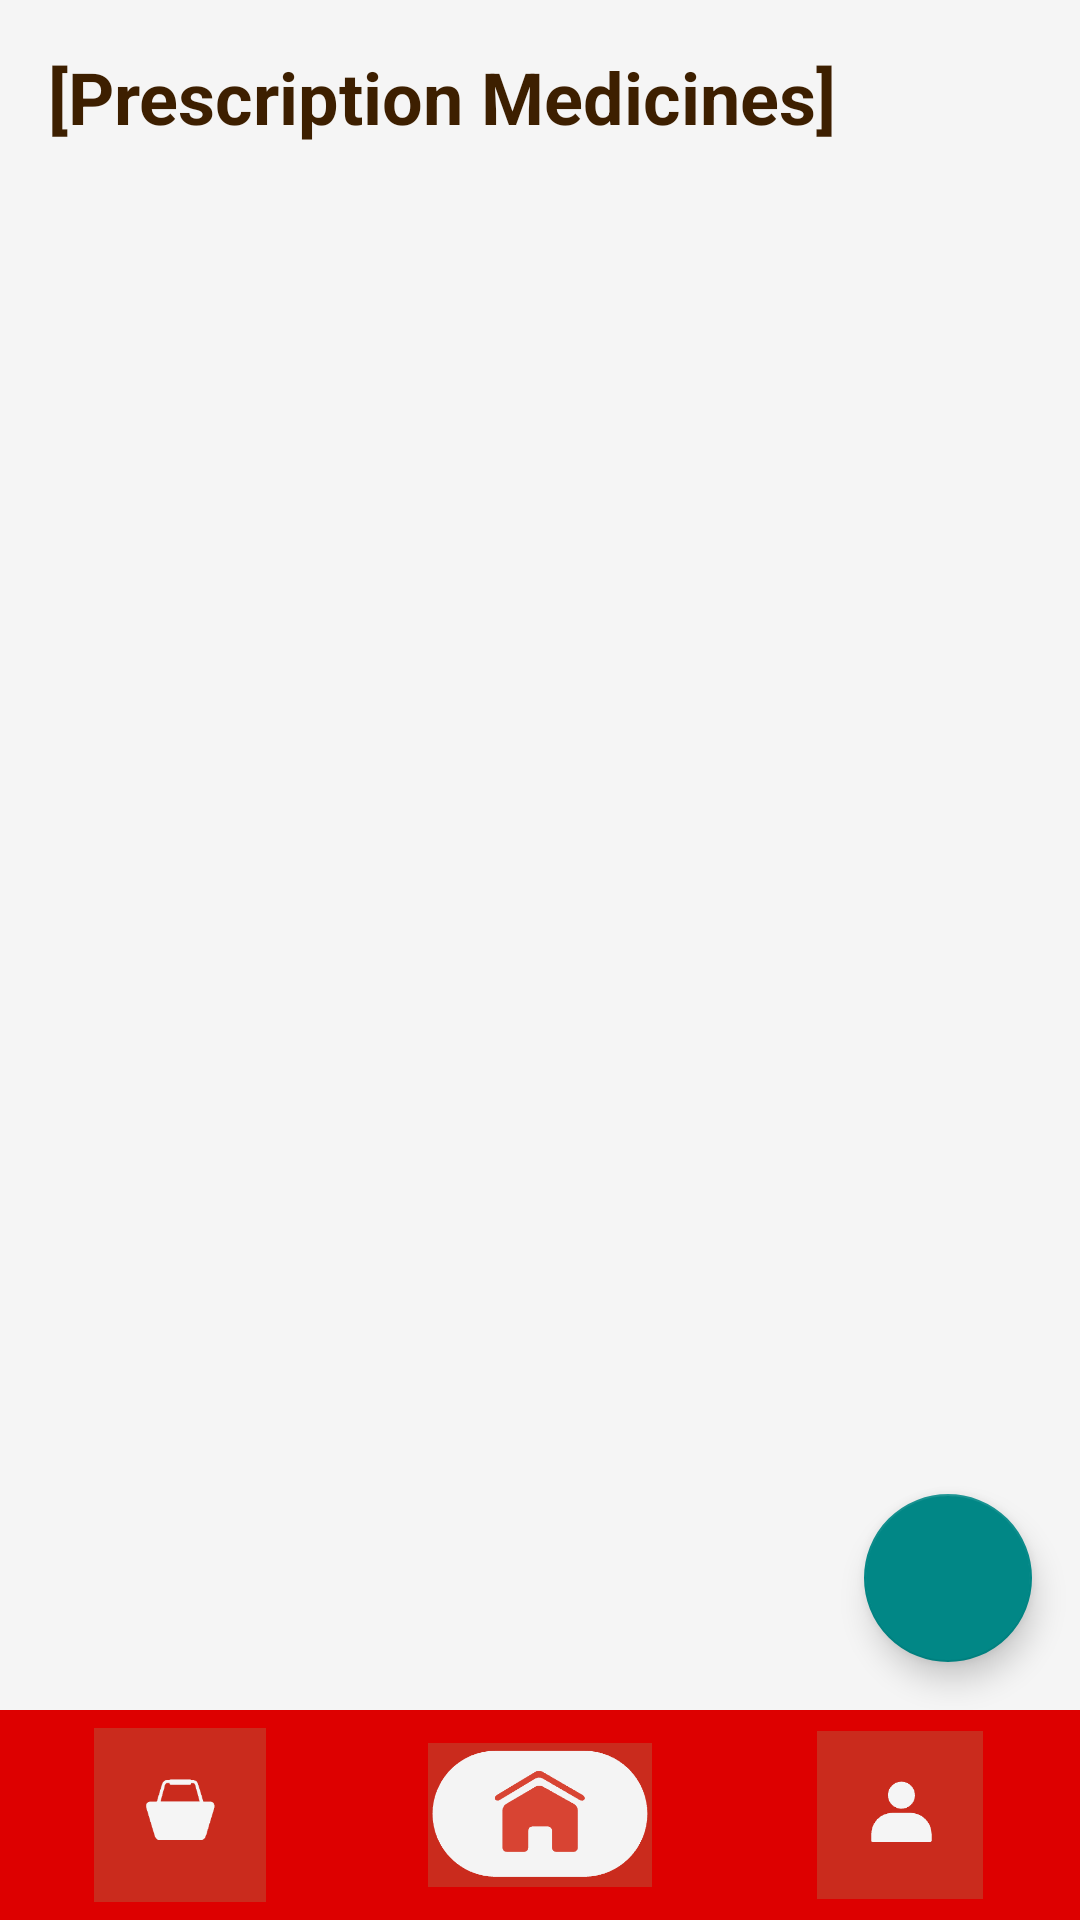

Named icons in this screenshot (1080w x 1920h) and their centers, (x=x, y=y):
cart: (x=180, y=1815)
home: (x=540, y=1815)
user: (x=900, y=1815)
